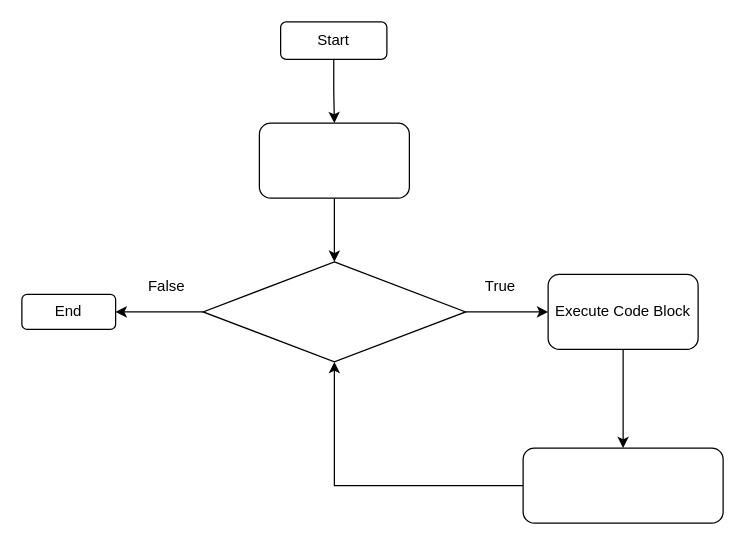
Some shapes in this 745 by 545 pixel diagram are drawn without their labels. The shapes that lost their labels are listed below. From the top down, each one's box as (x1, y1, x2, y2) in pixels, then its label:
(258, 122, 409, 198): Initialization
(202, 261, 466, 362): Condition Check
(522, 447, 723, 523): Increment/Decrement
